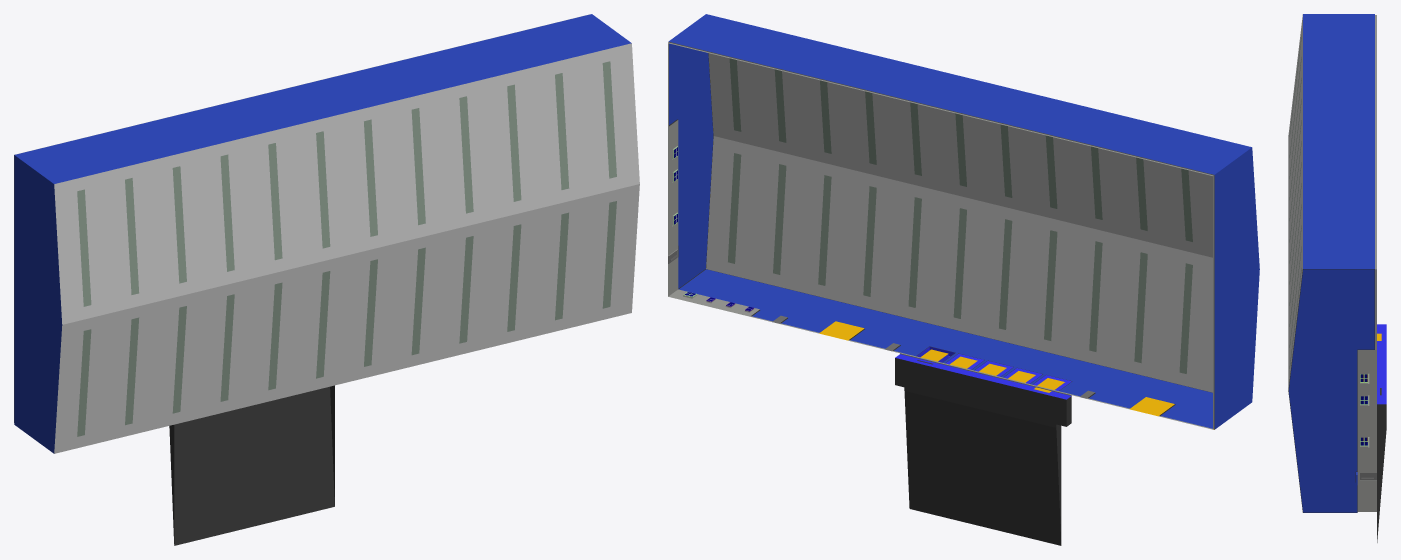
Rendered from uno3.dae.
3 views of the same model, side by side, from view 1: azimuth 30°, elevation 25°; view 2: azimuth 150°, elevation 25°; view 3: azimuth 270°, elevation 25° (orthographic). The views are drawn at different scales.
Visible parts, largest first — view 1: node_152, node_153, node_203, node_166, node_204, node_371, node_379, node_369, node_364, node_373, node_382, node_368 (+17 smaller); view 2: node_153, node_152, node_203, node_166, node_361, node_204, node_362, node_158, node_308, node_381, node_380, node_383 (+11 smaller); view 3: node_203, node_362, node_152, node_308, node_237, node_200, node_165, node_209, node_310, node_161.
Part boxes in pixels (x1,y1,x2,y2): node_152: (54,43,639,324); node_153: (54,184,639,453); node_203: (15,14,631,183); node_166: (174,386,334,545); node_204: (14,155,62,453); node_371: (268,143,282,260); node_379: (459,96,473,213); node_369: (220,154,234,271); node_364: (77,189,91,306); node_373: (316,131,330,248); node_382: (507,84,521,201); node_368: (172,166,186,283); node_153: (706,136,1212,392); node_152: (708,53,1212,257); node_203: (669,14,1251,174); node_166: (904,391,1061,545); node_361: (679,269,1212,428); node_204: (1214,147,1259,429); node_362: (669,43,713,288); node_158: (895,358,1066,427); node_308: (669,120,678,295); node_381: (818,175,831,285); node_380: (863,186,876,296); node_383: (773,164,786,274); node_203: (1303,14,1374,268); node_362: (1289,269,1374,512); node_152: (1288,14,1302,389); node_308: (1357,350,1374,511); node_237: (1377,324,1386,404); node_200: (1288,269,1374,512); node_165: (1377,430,1386,542); node_209: (1375,15,1376,269); node_310: (1375,269,1376,472); node_161: (1377,404,1386,430).
Bounding box in the file's own units: 2987 × 2104 × 480.
